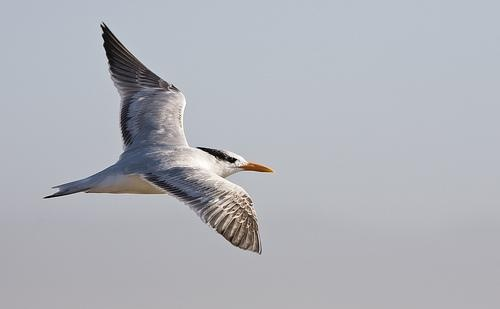bird: (45, 18, 271, 258)
